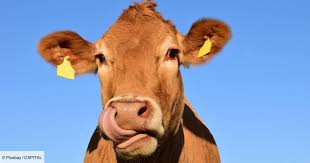cow: (58, 7, 227, 155)
